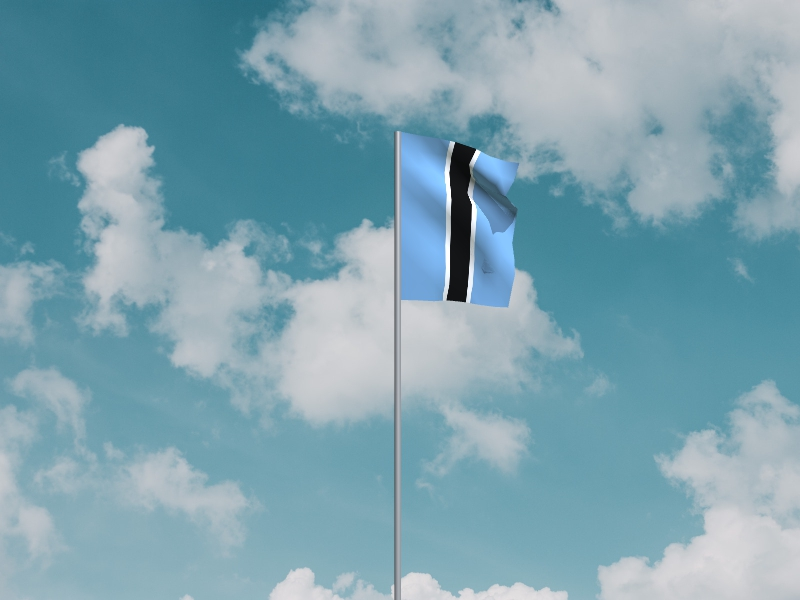bw: (402, 133, 521, 310)
